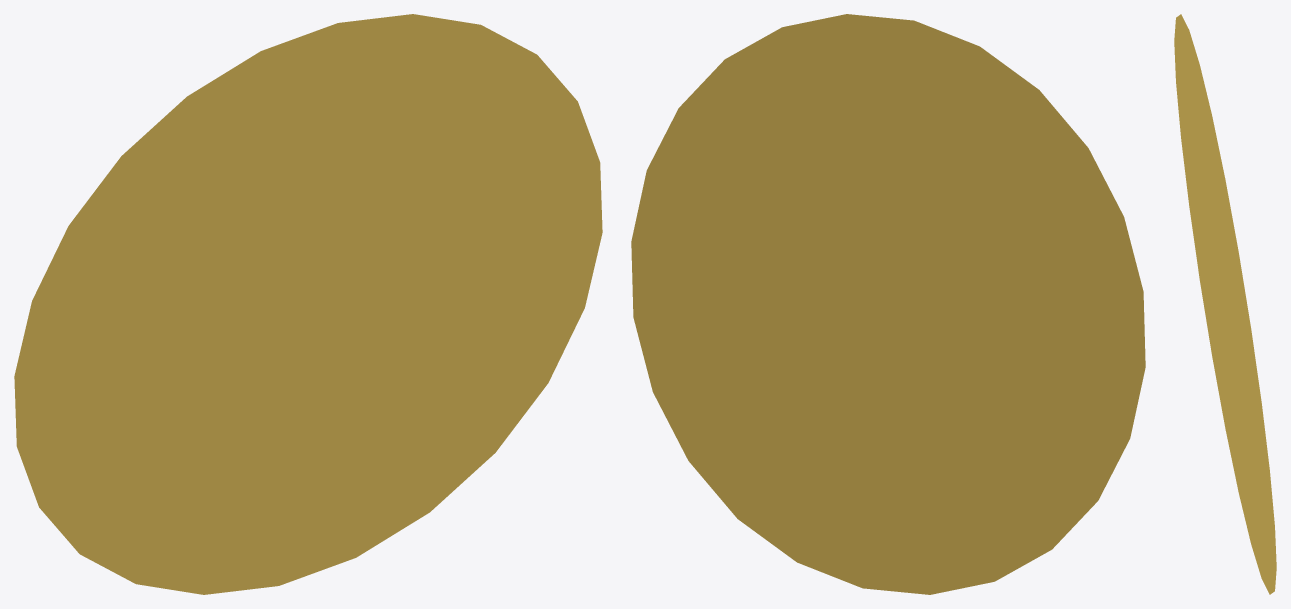
File: original-14.obj
3 renders of one model, left to right at view 1: azimuth 30°, elevation 25°; view 2: azimuth 150°, elevation 25°; view 3: azimuth 270°, elevation 25°, orthographic. The views are drawn at different scales.
Visible parts, largest first — view 1: 3dw.e450a063965ce182372d50f0ef237781/Model/mesh1/mesh1-geometry/; view 2: 3dw.e450a063965ce182372d50f0ef237781/Model/mesh1/mesh1-geometry/; view 3: 3dw.e450a063965ce182372d50f0ef237781/Model/mesh1/mesh1-geometry/.
Boxes of the visible parts, x1=… form: 3dw.e450a063965ce182372d50f0ef237781/Model/mesh1/mesh1-geometry/: x1=14, y1=14, x2=602, y2=594; 3dw.e450a063965ce182372d50f0ef237781/Model/mesh1/mesh1-geometry/: x1=631, y1=14, x2=1145, y2=594; 3dw.e450a063965ce182372d50f0ef237781/Model/mesh1/mesh1-geometry/: x1=1174, y1=14, x2=1276, y2=594.
Bounding box in the file's own units: 0.0512 × 0.0504 × 0.00888.
